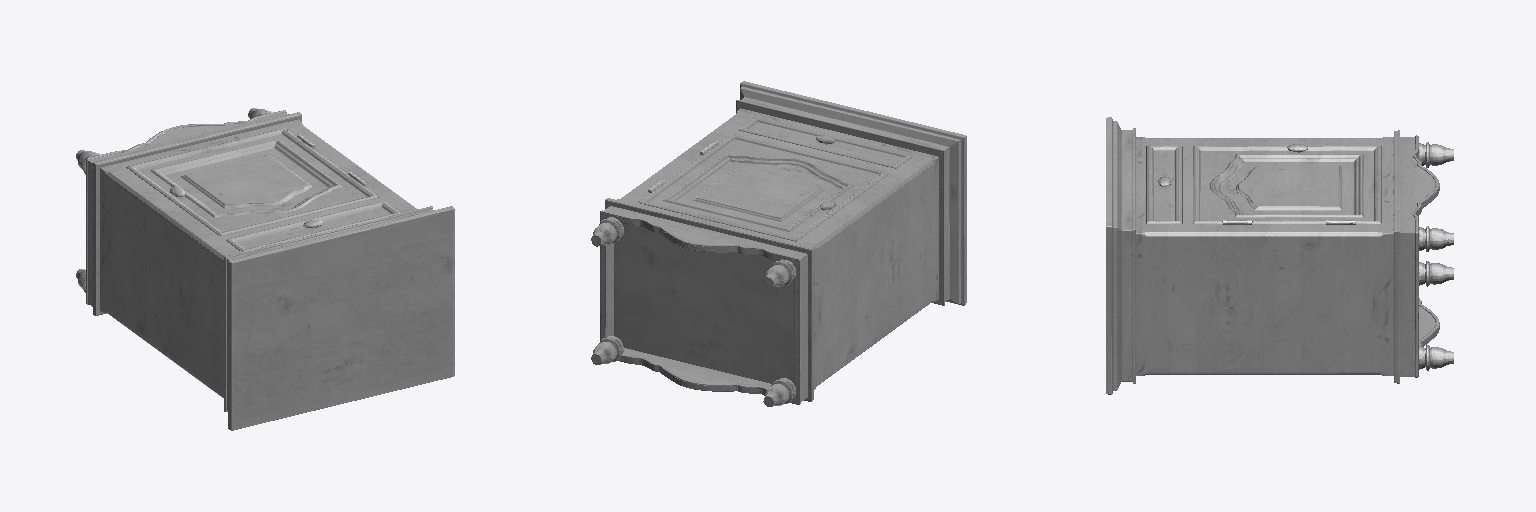
The picture shows the model from 3 angles: view 1: azimuth 30°, elevation 25°; view 2: azimuth 150°, elevation 25°; view 3: azimuth 270°, elevation 25°; orthographic projection.
Size of the model in its own units: 0.5401 by 0.3863 by 0.725.
1 materials, 1 textured.